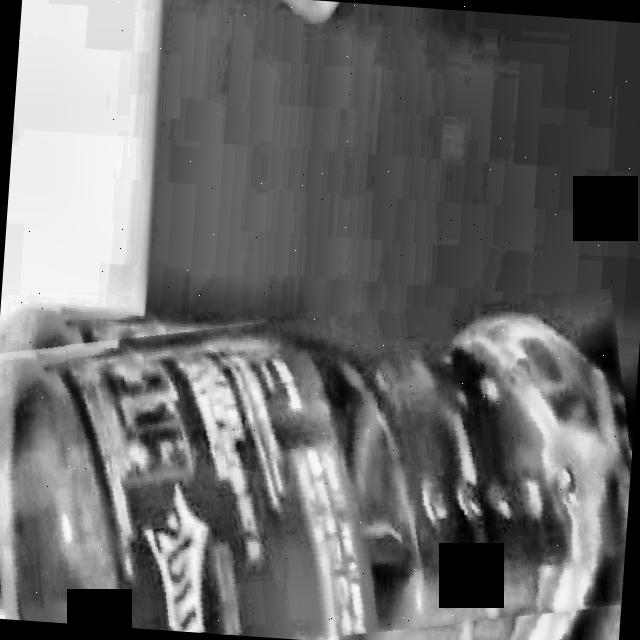bottle: (0, 311, 631, 638)
